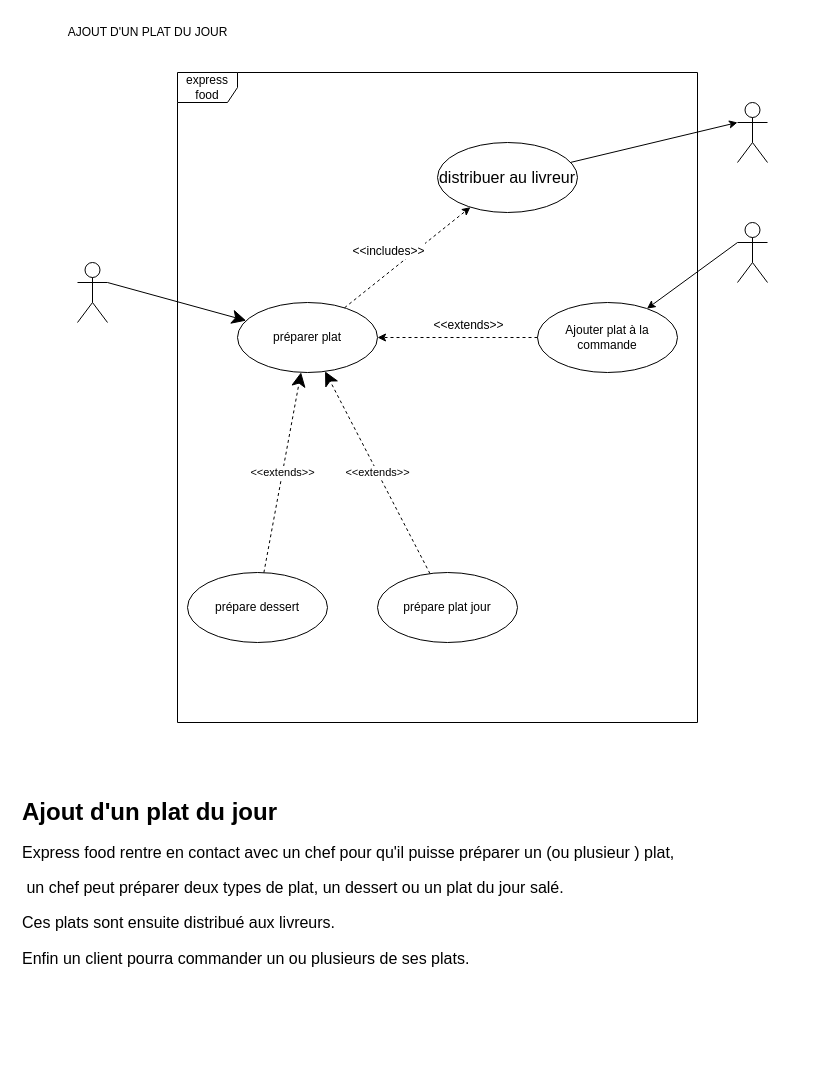
Image size: 834x1089. Some labels were removed from this diagram. The shapes that lost their labels are listed below. From the top down, each one's box as (x1, y1, x2, y2) in pixels, then its label:
(736, 102, 768, 162): livreur
(736, 222, 768, 282): Client
(76, 262, 108, 322): Chef
